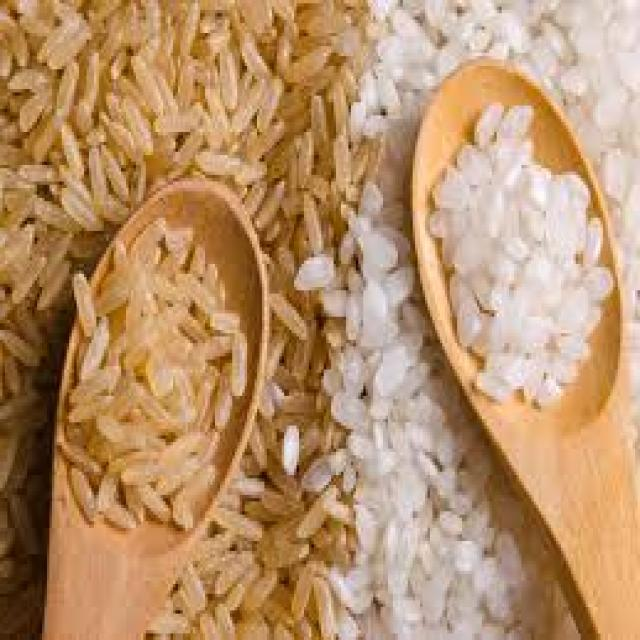White Rice: (370, 1, 638, 640)
